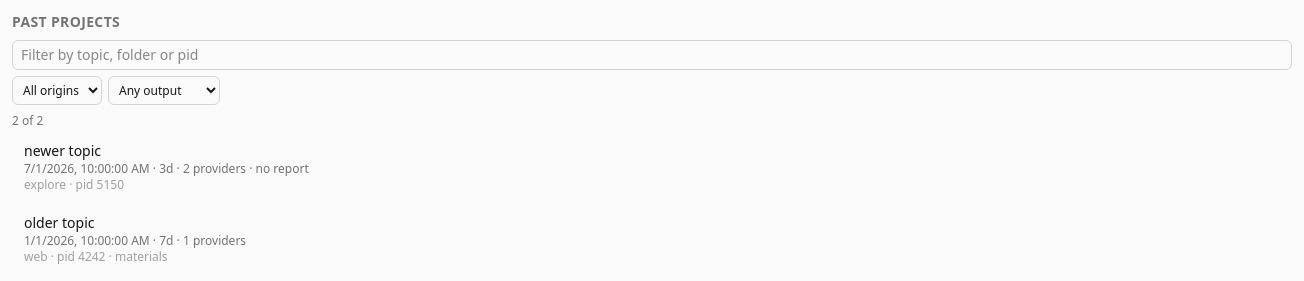
ProjectList › searches topic, folder name and pid
Type "old_project" into the search field named "Filter projects" at {"x": 652, "y": 55}, box [12,40,1292,70]
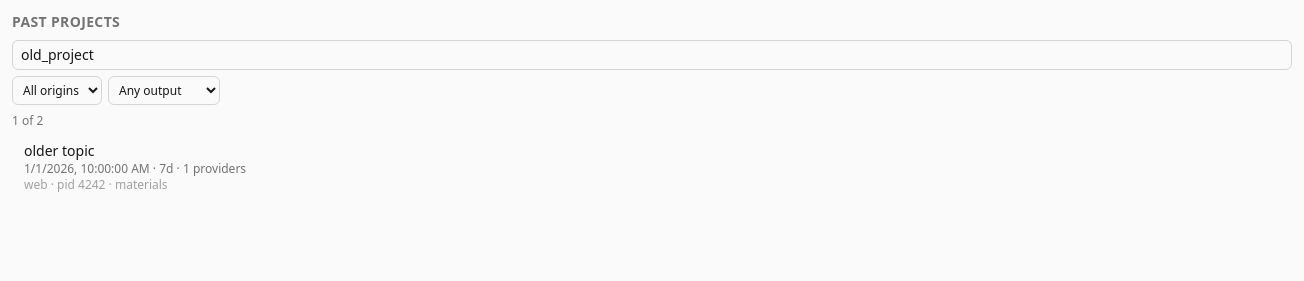
Expected: the text "older topic" is shown, [24,141,94,160]
Note: A pid ties a project back to `researchkit runs` and its OS process.
Replace the text in the search field named "Filter projects" with "5150" at {"x": 652, "y": 55}, box [12,40,1292,70]
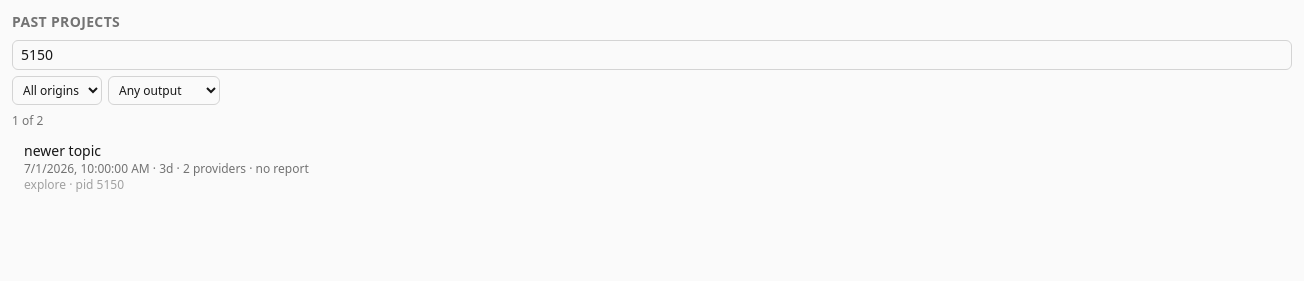
Expected: the text "newer topic" is shown, [24,141,101,160]
Expected: the button "older topic" is gone
